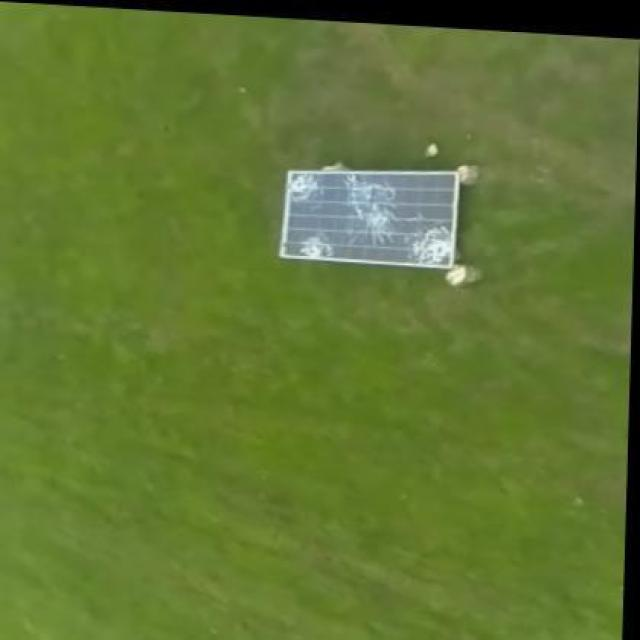cracked: (278, 166, 467, 271)
